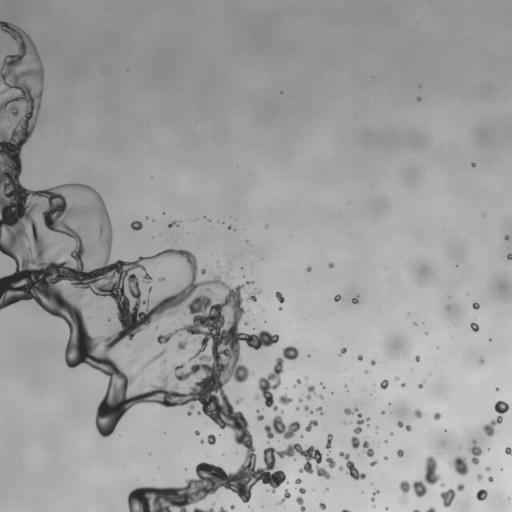droplet: (440, 483, 465, 507), (447, 456, 468, 475), (468, 439, 482, 464), (277, 392, 292, 405), (305, 419, 318, 432), (344, 406, 358, 416), (476, 489, 487, 501), (206, 434, 217, 445), (33, 112, 44, 123), (18, 147, 29, 158), (17, 174, 28, 185), (4, 264, 15, 275), (470, 310, 481, 321), (271, 342, 282, 353), (345, 349, 356, 360), (238, 354, 249, 365), (246, 375, 257, 386), (406, 377, 417, 388), (221, 382, 232, 393), (270, 387, 281, 398), (307, 397, 318, 408), (127, 403, 138, 414), (263, 407, 274, 418), (422, 408, 433, 419), (243, 411, 254, 422), (116, 417, 127, 428), (208, 422, 219, 433), (246, 422, 257, 433), (224, 426, 235, 437), (476, 431, 487, 442), (275, 439, 286, 450), (461, 451, 472, 462), (235, 454, 246, 465), (208, 455, 219, 466), (254, 458, 265, 469), (273, 459, 284, 470), (354, 460, 365, 471), (224, 464, 235, 475), (284, 470, 295, 481), (414, 470, 425, 481), (452, 472, 463, 483), (174, 477, 185, 488), (155, 478, 166, 489), (253, 480, 264, 491), (216, 485, 227, 496), (228, 491, 239, 502), (418, 495, 429, 506), (130, 220, 142, 230), (275, 291, 284, 303), (256, 409, 264, 421), (470, 322, 479, 332), (380, 379, 389, 389), (414, 409, 423, 418), (10, 45, 19, 54), (195, 273, 204, 282), (239, 289, 248, 298), (341, 294, 350, 303), (236, 323, 245, 332), (238, 340, 247, 349), (281, 358, 290, 367), (360, 358, 369, 367), (78, 361, 87, 370), (91, 398, 100, 407), (193, 400, 202, 409), (89, 404, 98, 413), (200, 413, 209, 422), (263, 416, 272, 425), (282, 417, 291, 426), (356, 432, 365, 441), (288, 435, 297, 444), (237, 444, 246, 453), (344, 444, 353, 453), (329, 450, 338, 459), (297, 455, 306, 464), (336, 456, 345, 465), (319, 459, 328, 468), (447, 465, 456, 474), (139, 479, 148, 488), (479, 480, 488, 489), (290, 489, 299, 498), (195, 499, 204, 508), (338, 346, 346, 356), (351, 294, 359, 303), (293, 379, 301, 388), (433, 411, 441, 420), (184, 503, 193, 511), (505, 240, 511, 251), (169, 505, 180, 511), (183, 505, 194, 511), (273, 505, 284, 511), (436, 505, 447, 511), (318, 501, 326, 509), (234, 397, 243, 404), (316, 406, 323, 415), (369, 459, 377, 466), (294, 478, 302, 485), (0, 267, 5, 278), (157, 276, 166, 282), (505, 446, 511, 455), (397, 448, 403, 457), (476, 473, 482, 482), (334, 294, 341, 301), (472, 302, 479, 309), (14, 88, 21, 95), (173, 243, 180, 250), (107, 257, 114, 264), (221, 264, 228, 271), (202, 273, 209, 280), (28, 298, 35, 305), (17, 299, 24, 306), (239, 300, 246, 307), (9, 302, 16, 309), (43, 311, 50, 318), (240, 313, 247, 320), (53, 315, 60, 322), (252, 328, 259, 335), (296, 352, 303, 359), (362, 356, 369, 363), (267, 366, 274, 373), (278, 371, 285, 378), (239, 380, 246, 387), (314, 385, 321, 392), (321, 389, 328, 396), (96, 394, 103, 401), (227, 396, 234, 403), (258, 396, 265, 403), (272, 397, 279, 404), (301, 398, 308, 405), (157, 403, 164, 410), (182, 403, 189, 410), (173, 404, 180, 411), (164, 405, 171, 412), (232, 405, 239, 412), (311, 412, 318, 419), (205, 416, 212, 423), (299, 421, 306, 428), (492, 423, 499, 430), (92, 429, 99, 436), (479, 429, 486, 436), (293, 430, 300, 437), (319, 447, 326, 454), (293, 451, 300, 458), (449, 453, 456, 460), (464, 458, 471, 465), (482, 471, 489, 478), (279, 481, 286, 488), (423, 481, 430, 488), (441, 485, 448, 492), (407, 487, 414, 494), (395, 488, 402, 495), (206, 492, 213, 499), (421, 493, 428, 500), (443, 506, 452, 511), (414, 355, 420, 362), (299, 487, 305, 494), (212, 505, 219, 511), (328, 262, 334, 268), (478, 358, 484, 364), (0, 28, 4, 37), (0, 80, 4, 89), (0, 93, 4, 102), (357, 354, 362, 361), (306, 266, 311, 272), (201, 268, 206, 274), (445, 304, 450, 310), (370, 359, 375, 365), (254, 393, 259, 399), (488, 476, 493, 482), (439, 482, 445, 487), (507, 406, 511, 413), (416, 96, 421, 101), (471, 162, 476, 167), (504, 235, 509, 240), (394, 376, 399, 381), (195, 430, 200, 435), (338, 465, 343, 470), (485, 466, 490, 471), (2, 17, 7, 22), (29, 34, 34, 39), (32, 39, 37, 44), (37, 50, 42, 55), (39, 55, 44, 60), (40, 58, 45, 63), (42, 67, 47, 72), (42, 81, 47, 86), (415, 91, 420, 96), (41, 92, 46, 97), (411, 96, 416, 101), (38, 106, 43, 111), (475, 161, 480, 166), (71, 178, 76, 183), (59, 179, 64, 184), (83, 180, 88, 185), (39, 185, 44, 190), (100, 193, 105, 198), (105, 205, 110, 210), (106, 208, 111, 213), (107, 211, 112, 216), (108, 214, 113, 219), (131, 216, 136, 221), (109, 217, 114, 222), (139, 217, 144, 222), (211, 217, 216, 222), (110, 223, 115, 228), (222, 223, 227, 228), (171, 224, 176, 229), (135, 229, 140, 234), (111, 230, 116, 235), (111, 234, 116, 239), (110, 243, 115, 248), (164, 244, 169, 249), (181, 245, 186, 250), (158, 246, 163, 251), (140, 251, 145, 256), (4, 254, 9, 259), (120, 256, 125, 261), (128, 257, 133, 262), (330, 258, 335, 263), (306, 261, 311, 266), (323, 262, 328, 267), (310, 266, 315, 271), (328, 267, 333, 272), (196, 268, 201, 273), (214, 269, 219, 274), (229, 270, 234, 275), (244, 275, 249, 280), (220, 276, 225, 281), (280, 291, 285, 296), (254, 293, 259, 298), (274, 298, 279, 303), (280, 302, 285, 307), (36, 304, 41, 309), (63, 323, 68, 328), (269, 330, 274, 335), (62, 340, 67, 345), (290, 342, 295, 347), (61, 344, 66, 349), (249, 346, 254, 351), (336, 346, 341, 351), (294, 356, 299, 361), (60, 357, 65, 362), (61, 360, 66, 365), (271, 360, 276, 365), (93, 368, 98, 373), (97, 370, 102, 375), (262, 373, 267, 378), (104, 374, 109, 379), (377, 377, 382, 382), (291, 378, 296, 383), (300, 378, 305, 383), (396, 379, 401, 384), (306, 381, 311, 386), (422, 382, 427, 387), (268, 387, 273, 392), (303, 389, 308, 394), (285, 393, 290, 398), (301, 395, 306, 400), (499, 396, 504, 401), (287, 401, 292, 406), (490, 401, 495, 406), (299, 402, 304, 407), (349, 406, 354, 411), (435, 407, 440, 412), (420, 408, 425, 413), (258, 410, 263, 415), (429, 411, 434, 416), (494, 411, 499, 416), (500, 412, 505, 417), (242, 413, 247, 418), (361, 414, 366, 419), (353, 415, 358, 420), (429, 416, 434, 421), (438, 416, 443, 421), (485, 419, 490, 424), (402, 420, 407, 425), (352, 422, 357, 427), (409, 422, 414, 427), (359, 423, 364, 428), (369, 423, 374, 428), (310, 424, 315, 429), (393, 424, 398, 429), (400, 425, 405, 430), (262, 430, 267, 435), (350, 431, 355, 436), (492, 432, 497, 437), (214, 434, 219, 439), (385, 434, 390, 439), (202, 435, 207, 440), (322, 439, 327, 444), (330, 439, 335, 444), (358, 439, 363, 444), (203, 440, 208, 445), (251, 441, 256, 446), (475, 441, 480, 446), (468, 442, 473, 447), (264, 443, 269, 448), (313, 444, 318, 449), (301, 445, 306, 450), (372, 447, 377, 452), (481, 448, 486, 453), (402, 449, 407, 454), (392, 451, 397, 456), (273, 453, 278, 458), (283, 454, 288, 459), (476, 454, 481, 459), (320, 456, 325, 461), (348, 456, 353, 461), (368, 456, 373, 461), (353, 463, 358, 468), (333, 464, 338, 469), (372, 464, 377, 469), (344, 467, 349, 472), (357, 468, 362, 473), (283, 470, 288, 475), (302, 470, 307, 475), (319, 475, 324, 480), (349, 476, 354, 481), (357, 477, 362, 482), (257, 479, 262, 484), (435, 479, 440, 484), (265, 482, 270, 487), (297, 482, 302, 487), (463, 483, 468, 488), (453, 488, 458, 493), (473, 488, 478, 493), (486, 490, 491, 495), (298, 492, 303, 497), (374, 493, 379, 498), (472, 495, 477, 500), (248, 496, 253, 501), (438, 497, 443, 502), (451, 498, 456, 503), (367, 500, 372, 505), (243, 501, 248, 506), (302, 501, 307, 506), (295, 503, 300, 508), (223, 504, 228, 509), (277, 504, 282, 509), (343, 504, 348, 509), (424, 504, 429, 509), (507, 253, 511, 259), (200, 438, 204, 444), (0, 56, 3, 63), (264, 224, 268, 229), (406, 312, 410, 317), (412, 321, 417, 325), (401, 382, 405, 387), (298, 398, 303, 402), (383, 456, 388, 460), (230, 504, 234, 509), (245, 239, 249, 243), (278, 306, 282, 310), (244, 321, 248, 325), (424, 331, 428, 335), (304, 376, 308, 380), (495, 387, 499, 391), (295, 406, 299, 410), (381, 410, 385, 414), (384, 439, 388, 443), (325, 487, 329, 491), (508, 234, 511, 239), (508, 248, 511, 253), (124, 508, 129, 511), (227, 508, 232, 511), (319, 508, 324, 511), (371, 508, 376, 511), (228, 261, 231, 265), (364, 370, 368, 373), (372, 383, 376, 386), (300, 434, 303, 438), (369, 482, 373, 485), (372, 504, 375, 508), (0, 214, 2, 219), (0, 250, 2, 255), (418, 84, 421, 87), (150, 176, 153, 179), (162, 211, 165, 214), (145, 216, 148, 219), (488, 338, 491, 341), (307, 354, 310, 357), (369, 393, 372, 396), (388, 402, 391, 405), (366, 424, 369, 427), (375, 426, 378, 429), (390, 432, 393, 435), (507, 497, 510, 500), (212, 502, 215, 505), (385, 507, 388, 510), (282, 89, 285, 92), (276, 90, 279, 93), (279, 93, 282, 96), (420, 97, 423, 100), (417, 100, 420, 103), (472, 159, 475, 162), (468, 164, 471, 167), (472, 166, 475, 169), (65, 180, 68, 183), (91, 185, 94, 188), (96, 189, 99, 192), (159, 210, 162, 213), (164, 210, 167, 213), (161, 214, 164, 217), (205, 214, 208, 217), (148, 216, 151, 219), (175, 217, 178, 220), (203, 217, 206, 220), (154, 218, 157, 221), (219, 219, 222, 222), (168, 220, 171, 223), (505, 231, 508, 234), (501, 234, 504, 237), (503, 239, 506, 242), (247, 241, 250, 244), (152, 252, 155, 255), (504, 256, 507, 259), (455, 261, 458, 264), (217, 262, 220, 265), (240, 263, 243, 266), (452, 264, 455, 267), (303, 266, 306, 269), (455, 266, 458, 269), (204, 267, 207, 270), (241, 268, 244, 271), (307, 271, 310, 274), (244, 283, 247, 286), (255, 288, 258, 291), (272, 292, 275, 295), (333, 292, 336, 295), (339, 292, 342, 295), (352, 294, 355, 297), (331, 296, 334, 299), (249, 298, 252, 301), (338, 298, 341, 301), (348, 298, 351, 301), (476, 300, 479, 303), (349, 301, 352, 304), (353, 303, 356, 306), (469, 304, 472, 307), (478, 306, 481, 309), (474, 308, 477, 311), (277, 309, 280, 312), (415, 320, 418, 323), (474, 320, 477, 323), (412, 324, 415, 327), (468, 326, 471, 329), (478, 326, 481, 329), (424, 328, 427, 331), (421, 330, 424, 333), (475, 330, 478, 333), (425, 334, 428, 337), (491, 337, 494, 340), (485, 338, 488, 341), (345, 347, 348, 350), (344, 351, 347, 354), (415, 352, 418, 355), (309, 355, 312, 358), (412, 355, 415, 358), (305, 356, 308, 359), (354, 356, 357, 359), (361, 357, 364, 360), (356, 359, 359, 362), (374, 359, 377, 362), (418, 359, 421, 362), (483, 359, 486, 362), (479, 363, 482, 366), (361, 370, 364, 373), (364, 373, 367, 376), (397, 374, 400, 377), (319, 378, 322, 381), (418, 380, 421, 383), (322, 382, 325, 385), (296, 383, 299, 386), (346, 383, 349, 386), (386, 385, 389, 388), (415, 385, 418, 388), (401, 386, 404, 389), (498, 386, 501, 389), (343, 387, 346, 390), (380, 387, 383, 390), (419, 387, 422, 390), (330, 388, 333, 391), (492, 388, 495, 391), (331, 393, 334, 396), (370, 395, 373, 398), (388, 399, 391, 402), (504, 400, 507, 403), (389, 404, 392, 407), (380, 407, 383, 410), (321, 408, 324, 411), (384, 409, 387, 412), (354, 411, 357, 414), (322, 412, 325, 415), (382, 413, 385, 416), (187, 415, 190, 418), (441, 427, 444, 430), (197, 428, 200, 431), (375, 428, 378, 431), (330, 431, 333, 434), (443, 431, 446, 434), (197, 441, 200, 444), (382, 441, 385, 444), (400, 447, 403, 450), (502, 447, 505, 450), (502, 450, 505, 453), (402, 453, 405, 456), (506, 453, 509, 456), (386, 454, 389, 457), (383, 459, 386, 462), (499, 464, 502, 467), (181, 466, 184, 469), (502, 467, 505, 470), (499, 470, 502, 473), (364, 473, 367, 476), (492, 476, 495, 479), (328, 487, 331, 490), (372, 488, 375, 491), (287, 489, 290, 492), (304, 490, 307, 493), (324, 490, 327, 493), (370, 494, 373, 497), (477, 499, 480, 502), (323, 501, 326, 504), (383, 504, 386, 507), (415, 506, 418, 509), (240, 267, 243, 269), (262, 308, 264, 311), (487, 448, 490, 450), (184, 468, 187, 470), (509, 258, 511, 261), (509, 445, 511, 448), (509, 495, 511, 498), (509, 498, 511, 501), (303, 509, 306, 511), (383, 509, 386, 511), (280, 91, 282, 93), (152, 219, 154, 221), (217, 220, 219, 222), (222, 221, 224, 223), (152, 236, 154, 238), (456, 265, 458, 267), (242, 275, 244, 277), (264, 320, 266, 322), (436, 346, 438, 348), (285, 387, 287, 389), (331, 392, 333, 394), (262, 408, 264, 410), (444, 429, 446, 431), (357, 453, 359, 455), (500, 468, 502, 470), (312, 488, 314, 490), (248, 505, 250, 507), (261, 505, 263, 507), (449, 296, 450, 298), (219, 434, 220, 436)
ligament: (258, 346, 298, 411), (398, 454, 441, 504), (482, 400, 509, 436), (339, 452, 368, 481), (350, 412, 370, 449), (275, 487, 290, 505), (362, 435, 374, 457), (295, 495, 305, 511), (397, 420, 411, 431), (167, 220, 181, 228), (371, 488, 379, 502), (303, 405, 313, 414), (193, 507, 214, 511), (417, 379, 425, 388), (203, 215, 211, 222), (425, 506, 436, 511), (344, 382, 349, 392), (218, 506, 227, 511), (319, 382, 325, 389), (216, 260, 219, 268), (340, 509, 351, 511), (412, 509, 420, 511), (222, 453, 224, 456), (361, 490, 363, 493)
